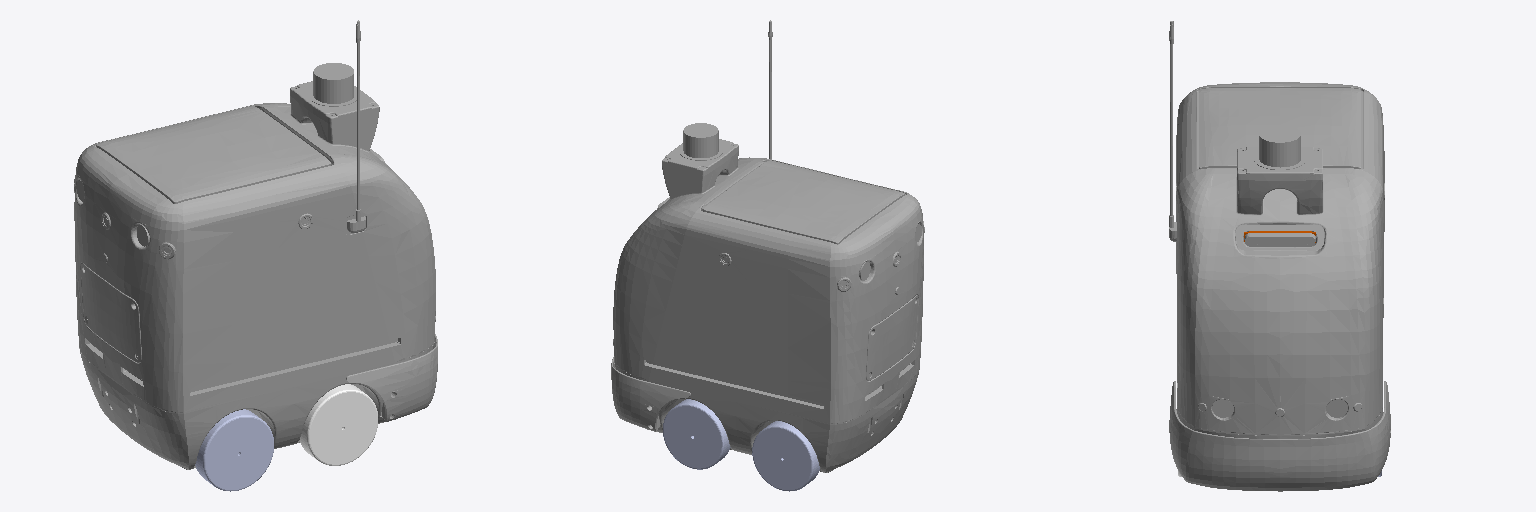
URDF robot description (tars5_6):
<?xml version="1.0" encoding="utf-8"?>
<!-- This URDF was automatically created by SolidWorks to URDF Exporter! Originally created by [author] ([email redacted]) 
     Commit Version: 1.6.0-4-g7f85cfe  Build Version: 1.6.7995.38578
     For more information, please see http://wiki.ros.org/sw_urdf_exporter -->
<robot
  name="tars5_6">
  <link
    name="base_link">
    <inertial>
      <origin
        xyz="-0.0040914 -0.001222 0.24941"
        rpy="0 0 0" />
      <mass
        value="77.964" />
      <inertia
        ixx="2.4547"
        ixy="-0.0020672"
        ixz="0.16641"
        iyy="3.9379"
        iyz="-0.0013651"
        izz="4.6353" />
    </inertial>
    <visual>
      <origin
        xyz="0 0 0"
        rpy="0 0 0" />
      <geometry>
        <mesh
          filename="package://tars5_6/meshes/base_link.STL" />
      </geometry>
      <material
        name="">
        <color
          rgba="0.69804 0.69804 0.69804 1" />
      </material>
    </visual>
    <collision>
      <origin
        xyz="0 0 0"
        rpy="0 0 0" />
      <geometry>
        <mesh
          filename="package://tars5_6/meshes/base_link.STL" />
      </geometry>
    </collision>
  </link>
  <link
    name="fl_link">
    <inertial>
      <origin
        xyz="-2.77555756156289E-17 -0.0275 2.77555756156289E-17"
        rpy="0 0 0" />
      <mass
        value="1.80419482299145" />
      <inertia
        ixx="0.00518473415115212"
        ixy="2.43251155724573E-21"
        ixz="-3.46530739550981E-19"
        iyy="0.00946593125082104"
        iyz="-1.82989056629749E-18"
        izz="0.00518473415115212" />
    </inertial>
    <visual>
      <origin
        xyz="0 0 0"
        rpy="0 0 0" />
      <geometry>
        <mesh
          filename="package://tars5_6/meshes/fl_link.STL" />
      </geometry>
      <material
        name="">
        <color
          rgba="0.792156862745098 0.819607843137255 0.933333333333333 1" />
      </material>
    </visual>
    <collision>
      <origin
        xyz="0 0 0"
        rpy="0 0 0" />
      <geometry>
        <mesh
          filename="package://tars5_6/meshes/fl_link.STL" />
      </geometry>
    </collision>
  </link>
  <joint
    name="fl_joint"
    type="continuous">
    <origin
      xyz="0.15 0.2475 0.0455"
      rpy="0 0 0" />
    <parent
      link="base_link" />
    <child
      link="fl_link" />
    <axis
      xyz="0 1 0" />
    <limit
      effort="1"
      velocity="1.5" />
  </joint>
  <link
    name="bl_link">
    <inertial>
      <origin
        xyz="0 -0.0275 5.55111512312578E-17"
        rpy="0 0 0" />
      <mass
        value="1.80419482299145" />
      <inertia
        ixx="0.00518473415115212"
        ixy="3.68996014572375E-19"
        ixz="-2.7976978502658E-19"
        iyy="0.00946593125082104"
        iyz="-3.19027448361043E-18"
        izz="0.00518473415115212" />
    </inertial>
    <visual>
      <origin
        xyz="0 0 0"
        rpy="0 0 0" />
      <geometry>
        <mesh
          filename="package://tars5_6/meshes/bl_link.STL" />
      </geometry>
      <material
        name="">
        <color
          rgba="0.792156862745098 0.819607843137255 0.933333333333333 1" />
      </material>
    </visual>
    <collision>
      <origin
        xyz="0 0 0"
        rpy="0 0 0" />
      <geometry>
        <mesh
          filename="package://tars5_6/meshes/bl_link.STL" />
      </geometry>
    </collision>
  </link>
  <joint
    name="bl_joint"
    type="continuous">
    <origin
      xyz="-0.15 0.2475 0.0455"
      rpy="0 0 0" />
    <parent
      link="base_link" />
    <child
      link="bl_link" />
    <axis
      xyz="0 1 0" />
    <limit
      effort="1"
      velocity="1.5" />
  </joint>
  <link
    name="br_link">
    <inertial>
      <origin
        xyz="0 0.0275 2.77555756156289E-17"
        rpy="0 0 0" />
      <mass
        value="1.80419482299145" />
      <inertia
        ixx="0.00518473415115212"
        ixy="2.43350902983266E-20"
        ixz="-7.5490363857967E-20"
        iyy="0.00946593125082104"
        iyz="3.08633930205623E-18"
        izz="0.00518473415115212" />
    </inertial>
    <visual>
      <origin
        xyz="0 0 0"
        rpy="0 0 0" />
      <geometry>
        <mesh
          filename="package://tars5_6/meshes/br_link.STL" />
      </geometry>
      <material
        name="">
        <color
          rgba="0.792156862745098 0.819607843137255 0.933333333333333 1" />
      </material>
    </visual>
    <collision>
      <origin
        xyz="0 0 0"
        rpy="0 0 0" />
      <geometry>
        <mesh
          filename="package://tars5_6/meshes/br_link.STL" />
      </geometry>
    </collision>
  </link>
  <joint
    name="br_joint"
    type="continuous">
    <origin
      xyz="-0.15 -0.2475 0.0455"
      rpy="0 0 0" />
    <parent
      link="base_link" />
    <child
      link="br_link" />
    <axis
      xyz="0 1 0" />
    <limit
      effort="1"
      velocity="1.5" />
  </joint>
  <link
    name="fr_link">
    <inertial>
      <origin
        xyz="-2.77555756156289E-17 0.0275 2.77555756156289E-17"
        rpy="0 0 0" />
      <mass
        value="1.80419482299145" />
      <inertia
        ixx="0.00518473415115212"
        ixy="-6.0209220227644E-20"
        ixz="2.93472393765043E-20"
        iyy="0.00946593125082104"
        iyz="3.23840438470506E-18"
        izz="0.00518473415115212" />
    </inertial>
    <visual>
      <origin
        xyz="0 0 0"
        rpy="0 0 0" />
      <geometry>
        <mesh
          filename="package://tars5_6/meshes/fr_link.STL" />
      </geometry>
      <material
        name="">
        <color
          rgba="1 1 1 1" />
      </material>
    </visual>
    <collision>
      <origin
        xyz="0 0 0"
        rpy="0 0 0" />
      <geometry>
        <mesh
          filename="package://tars5_6/meshes/fr_link.STL" />
      </geometry>
    </collision>
  </link>
  <joint
    name="fr_joint"
    type="continuous">
    <origin
      xyz="0.15 -0.2475 0.0455"
      rpy="0 0 0" />
    <parent
      link="base_link" />
    <child
      link="fr_link" />
    <axis
      xyz="0 1 0" />
    <limit
      effort="1"
      velocity="1.5" />
  </joint>

  <!--Skid Steer Plugin ..............................................-->

 <gazebo>
  <plugin name="skid_steer_drive_controller" filename="libgazebo_ros_skid_steer_drive.so">
    <updateRate>100.0</updateRate>
    <robotNamespace>/</robotNamespace>
    <leftFrontJoint>fl_joint</leftFrontJoint>
    <rightFrontJoint>fr_joint</rightFrontJoint>
    <leftRearJoint>bl_joint</leftRearJoint>
    <rightRearJoint>br_joint</rightRearJoint>
    <wheelSeparation>0.495</wheelSeparation>
    <wheelDiameter>0.205</wheelDiameter>
    <robotBaseFrame>base_link</robotBaseFrame>
    <torque>20</torque>
    <commandTopic>cmd_vel</commandTopic>
    <odometryTopic>odom</odometryTopic>
    <odometryFrame>odom</odometryFrame>
    <broadcastTF>true</broadcastTF>
    <covariance_x>0.001</covariance_x> <!-- 0.0001 -->
    <covariance_y>0.001</covariance_y> <!-- 0.0001 -->
    <covariance_yaw>0.01</covariance_yaw> <!-- 0.01 -->
  </plugin>
</gazebo>

<!-- Depth camera plugin ..................................................................................-->
  <joint name="depth_camera_joint" type="fixed">
        <parent link="base_link"/>
        <child link="depth_camera_link"/>
        <origin xyz="0.32636 0 0.65905" rpy="0 0 0"/>
    </joint>

    <link name="depth_camera_link">
        <visual>
            <geometry>
                <box size="0.033 0.175 0.03"/>
                <material
                name="">
                <color
                rgba="0 0 0 1" />
               </material>
            </geometry>
        </visual>
    </link>


    <joint name="depth_camera_optical_joint" type="fixed">
        <parent link="depth_camera_link"/>
        <child link="depth_camera_link_optical"/>
        <origin xyz="0 0 0" rpy="-1.57079632679 0 -1.57079632679"/>
    </joint>

    <link name="depth_camera_link_optical"></link>



    <gazebo reference="depth_camera_link">
        <material>Gazebo/Red</material>
        
        <sensor name="camera" type="depth">
            <pose> 0 0 0 0 -1.57079632679 0 </pose>
            <visualize>true</visualize>
            <update_rate>30</update_rate>
            <camera>
                <horizontal_fov>1.57079632679</horizontal_fov>
                <image>
                    <format>R8G8B8</format>
                    <width>1080</width>
                    <height>720</height>
                </image>
                <clip>
                    <near>0.5</near>
                    <far>25.0</far>
                </clip>
            </camera>
            <plugin name="camera_controller" filename="libDepthCameraPlugin.so">
            <CxPrime>0</CxPrime>
            <updateRate>30.0</updateRate>
            <cameraName>depth_cam1</cameraName>
            <frameName>depth_camera_link_optical</frameName>
            <hackBaseline>0.012</hackBaseline>
            <distortionK1>1.0</distortionK1>
            <distortionK2>1.0</distortionK2>
            <distortionK3>1.0</distortionK3>
            <distortionT1>1.0</distortionT1>
            <distortionT2>1.0</distortionT2>
          </plugin>
          <plugin name="kinect" filename="libgazebo_ros_openni_kinect.so">
              <CxPrime>0</CxPrime>
              <updateRate>30.0</updateRate>
              <imageTopicName>image_raw</imageTopicName>
              <pointCloudTopicName>points</pointCloudTopicName>
              <depthImageTopicName>image_depth</depthImageTopicName>
              <depthImageCameraInfoTopicName>depth_camera_info</depthImageCameraInfoTopicName>
              <pointCloudCutoff>0.001</pointCloudCutoff>
              <cameraName>kinect</cameraName>
              <frameName>depth_camera_link_optical</frameName>
              <distortionK1>0.00000001</distortionK1>
              <distortionK2>0.00000001</distortionK2>
              <distortionK3>0.00000001</distortionK3>
              <distortionT1>0.00000001</distortionT1>
              <distortionT2>0.00000001</distortionT2>
            </plugin>
        </sensor>
    </gazebo>

</robot>

--- Facts derived from the render (not from the file) ---
3 views of the same robot in one strip: view 1: azimuth 30°, elevation 25°; view 2: azimuth 150°, elevation 25°; view 3: azimuth 270°, elevation 25° (orthographic).
Robot: tars5_6 — 7 links, 6 joints (4 continuous, 2 fixed); root link base_link; default pose: all joints at 0.
Links seen in each view (by area): view 1: base_link, br_link, fr_link; view 2: base_link, bl_link, fl_link; view 3: base_link.
Boxes of the visible links, box(x1,y1,x2,y2) form: base_link: box(74, 20, 437, 469); br_link: box(195, 409, 273, 491); fr_link: box(300, 384, 377, 465); base_link: box(611, 20, 924, 472); bl_link: box(752, 421, 819, 491); fl_link: box(663, 399, 730, 469); base_link: box(1169, 21, 1390, 491).
Bounding box of the posed robot: 0.8882 × 0.5371 × 1.22 m (x, y, z).
5 mesh visuals loaded from 5 distinct referenced files (5 binary STL).
